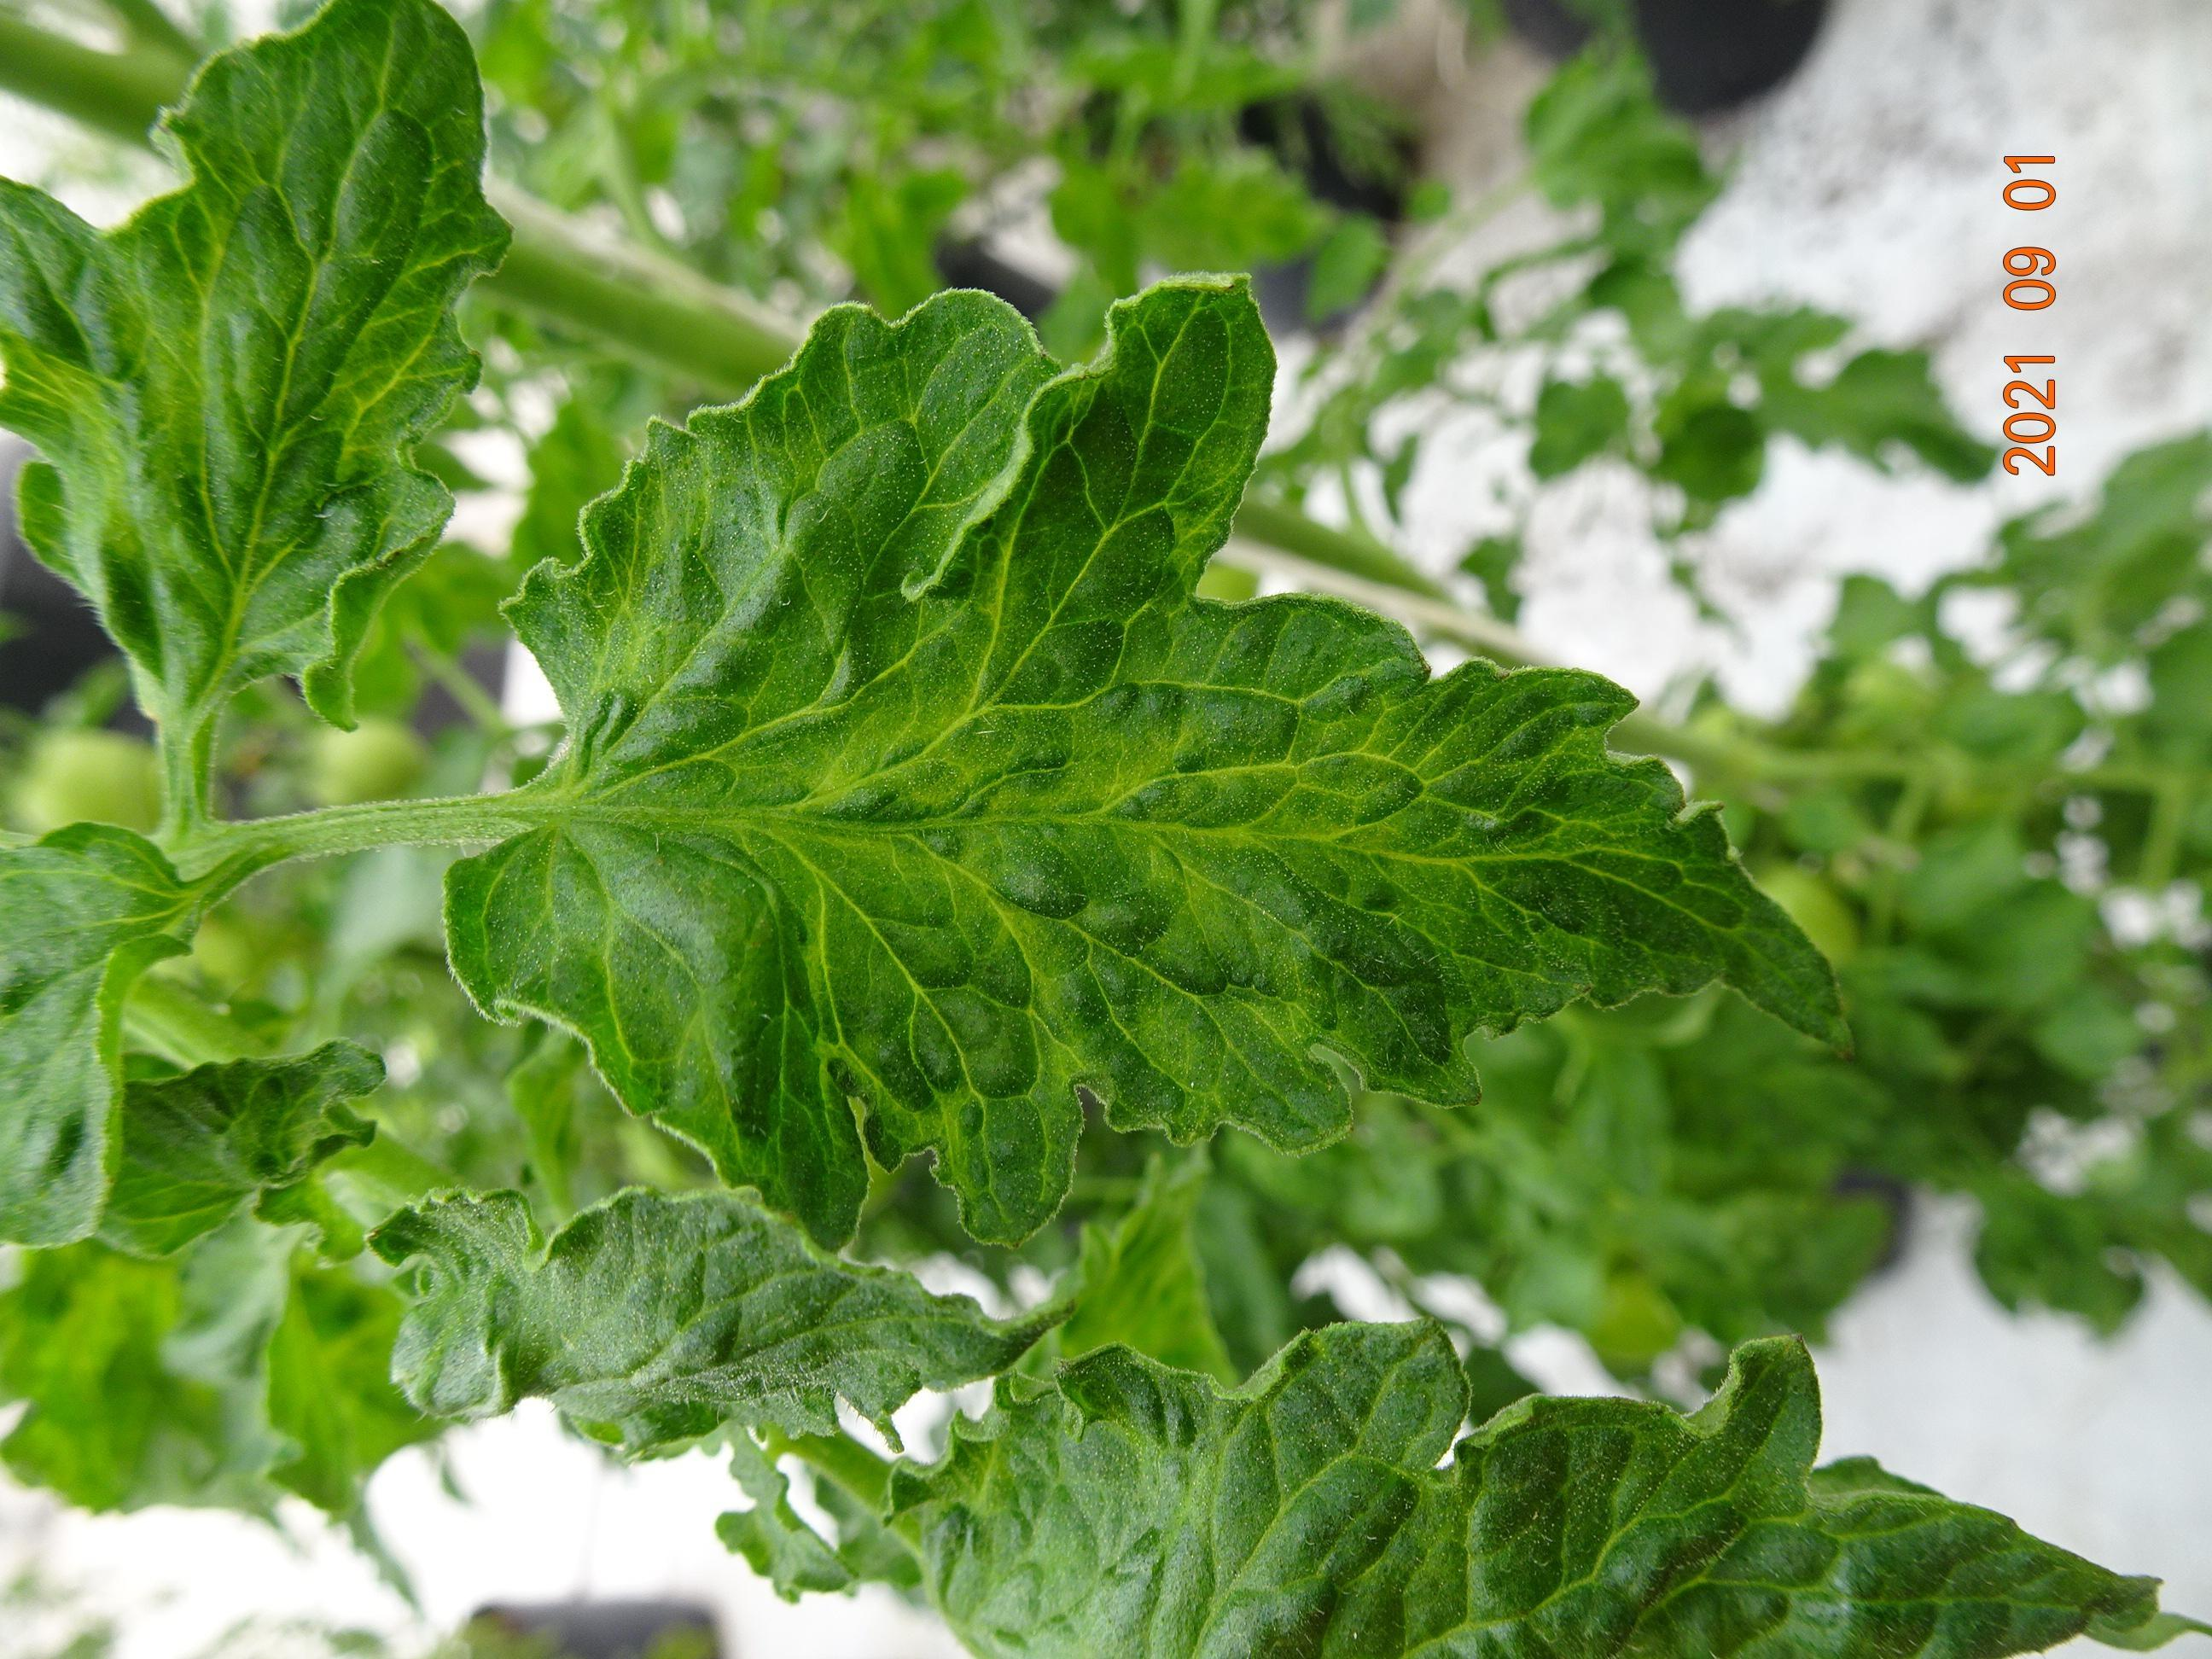Hoja rugoso: (444, 281, 1841, 1244), (890, 1323, 2174, 1656), (371, 1188, 1068, 1455)
Pedunculo: (219, 803, 502, 863)
